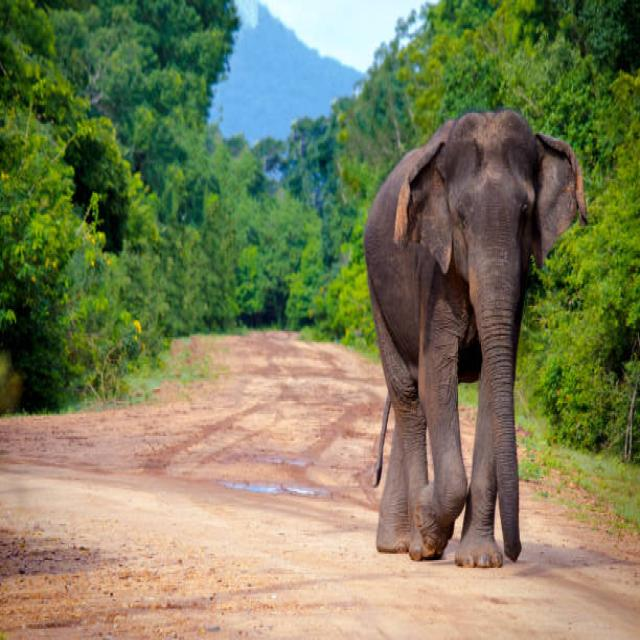Elephant: (353, 90, 600, 613)
